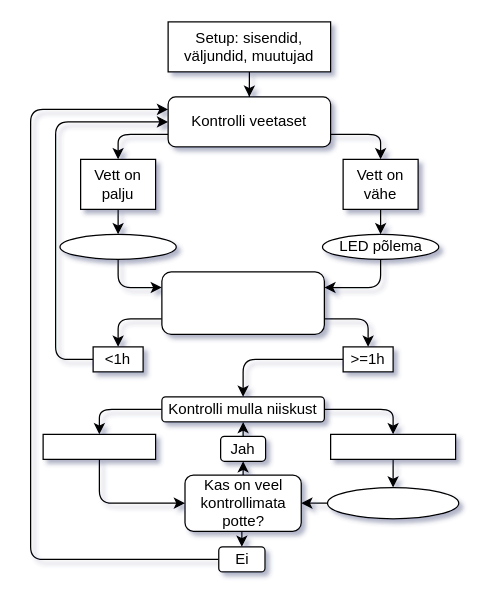
Image size: 489x601. Some labels were removed from this diagram. The centre of each missing label's shape, as x and y in pixels:
LED kustu: the point at 117,246
Muld on kuiv: the point at 392,446
Muld on niiske: the point at 99,446
Mõõda viimasest niiskuse kontrollimisest möödunud aega: the point at 242,302
Pumpa vett potti: the point at 392,502
